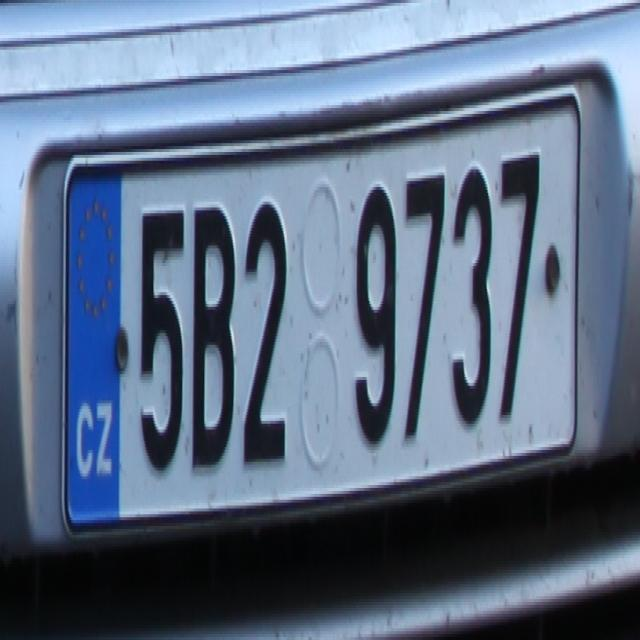2: (243, 193, 291, 467)
3: (452, 158, 493, 426)
5: (136, 205, 185, 464)
7: (501, 146, 541, 430), (404, 170, 444, 444)
9: (354, 182, 400, 436)
B: (191, 202, 238, 464)
